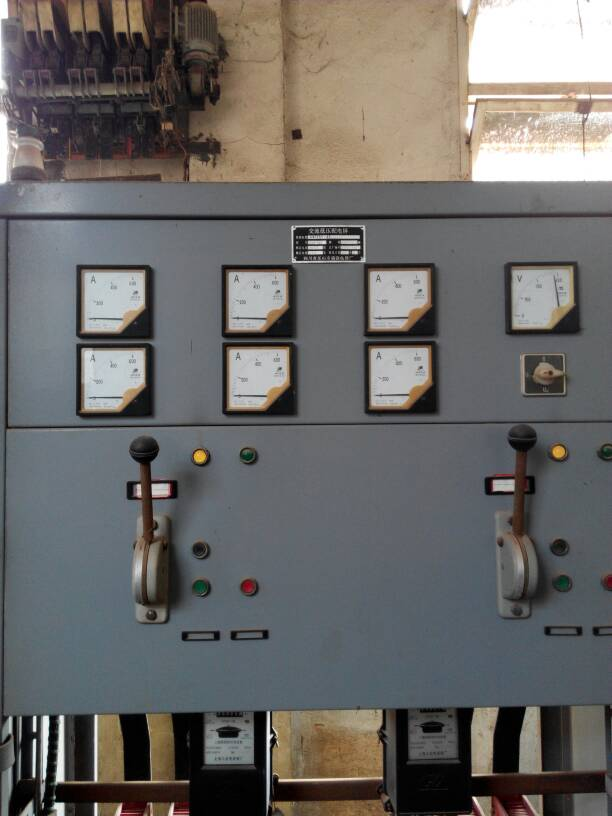pointer: (79, 268, 151, 332), (80, 346, 149, 411), (367, 344, 432, 412), (367, 266, 431, 333), (509, 266, 575, 329), (225, 266, 288, 330), (227, 348, 291, 409)
